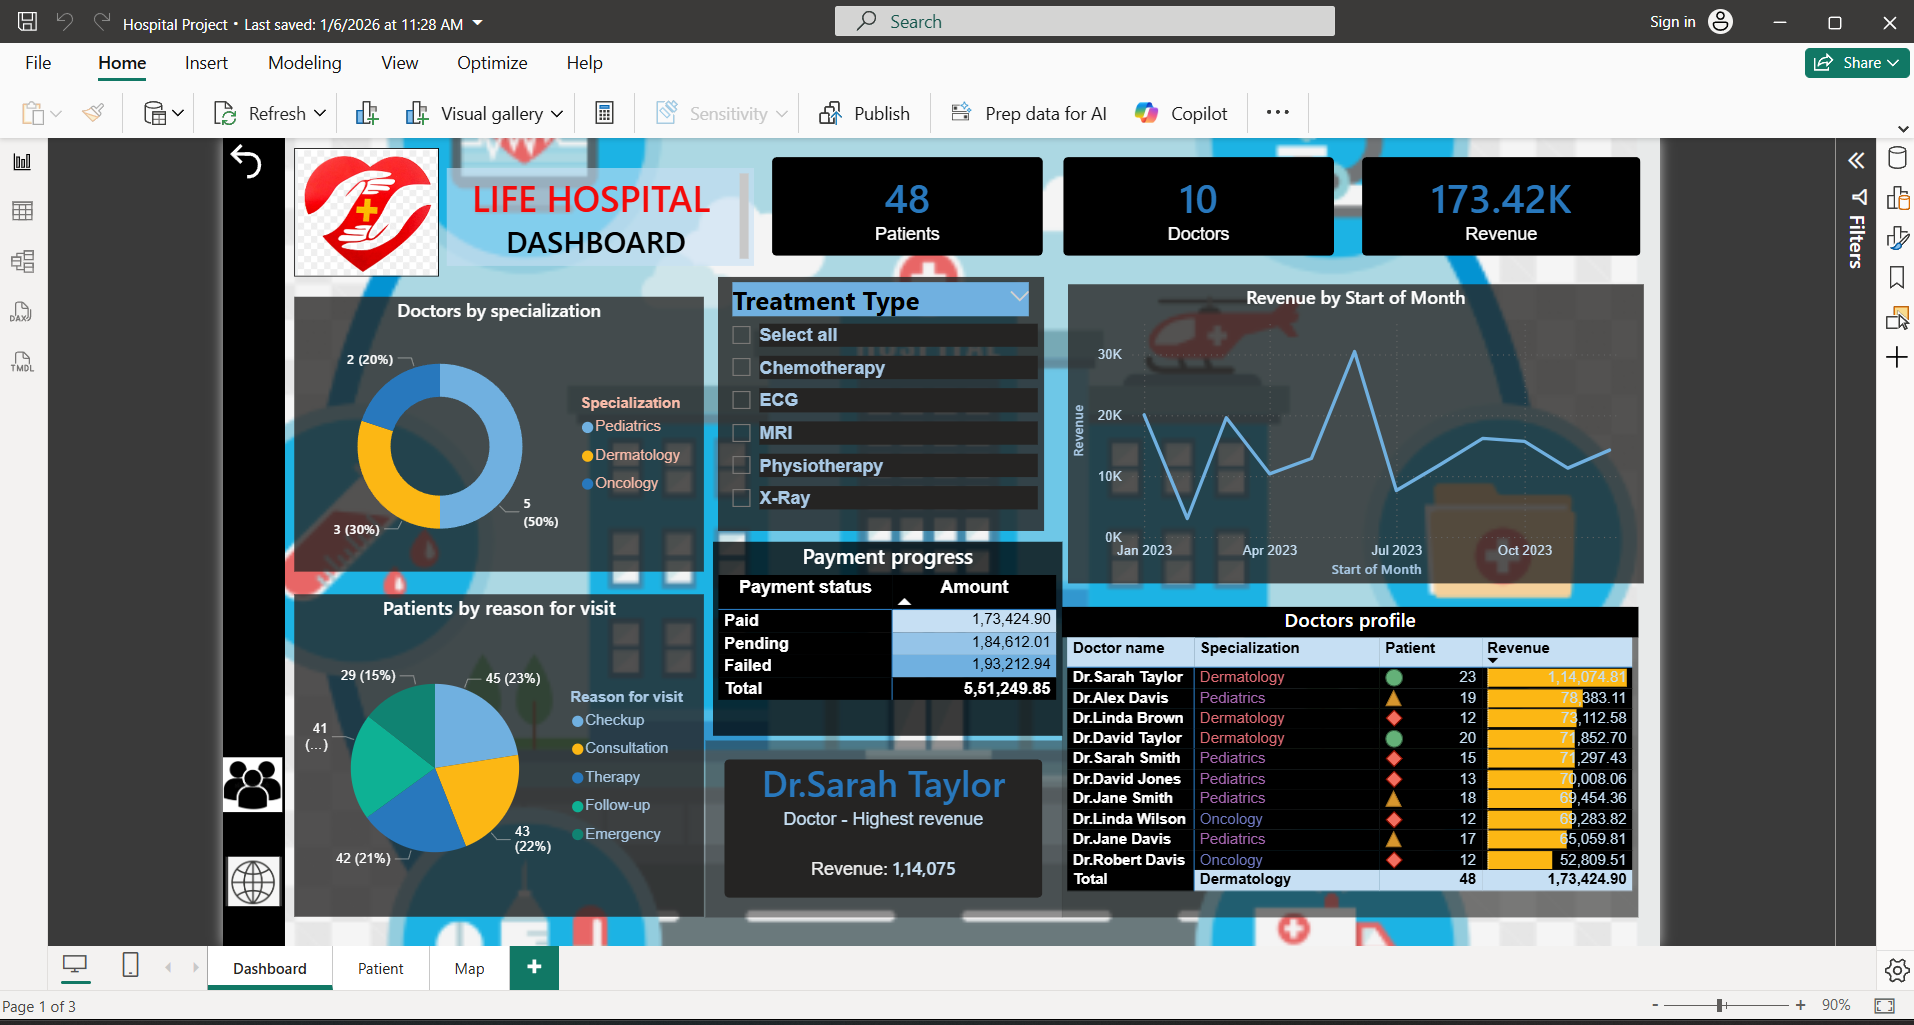

The dashboard page shown, as its layout file describes it:
{"tool":"powerbi","page":{"name":"Dashboard","canvas":[1280,720],"ordinal":0},"visuals":[{"type":"textbox","box":[199.1,26.5,273.9,86.9],"z":0},{"type":"cardVisual","fields":{"Data":["billing.Total Patient"]},"box":[472.5,0,275,122.5],"z":1000},{"type":"cardVisual","fields":{"Data":["doctors.Total doctors"]},"box":[731.2,0,275,122.5],"z":2000},{"type":"lineChart","title":"Revenue by Start of Month","fields":{"Category":["billing.bill_date Hierarchy.bill_date","billing.bill_date Hierarchy.Start of Month","billing.bill_date Hierarchy.Start of Week"],"Y":["billing.Total revenue"]},"box":[752.5,130,512.5,266.2],"z":3000},{"type":"donutChart","title":"Doctors by specialization","fields":{"Category":["doctors.specialization"],"Y":["doctors.Total doctors"]},"box":[63.8,141.2,365,245],"z":4000},{"type":"cardVisual","fields":{"Data":["billing.Total revenue"]},"box":[997.5,0,282.5,122.5],"z":5000},{"type":"pivotTable","title":"Doctors profile","fields":{"Rows":["doctors.Doctor full name"],"Values":["Min(doctors.specialization)","billing.Total Patient","billing.Total revenue","select"]},"box":[747.4,417,513.6,277],"z":6000},{"type":"slicer","fields":{"Values":["treatments.treatment_type"]},"box":[441.2,123.8,290,226.2],"z":7000},{"type":"pivotTable","title":"Payment progress","fields":{"Rows":["billing.payment_status"],"Values":["Sum(billing.amount)","select"]},"box":[436.2,360,311.2,172.5],"z":8000},{"type":"pieChart","title":"Patients by reason for visit","fields":{"Category":["appointments.reason_for_visit"],"Y":["CountNonNull(appointments.patient_id)"]},"box":[63.8,406.2,365,287.5],"z":9000},{"type":"textbox","box":[0,0,55,720],"z":10000},{"type":"actionButton","box":[0,0,53.1,41],"z":11000},{"type":"image","box":[63.9,8.4,129.1,114.6],"z":11001},{"type":"cardVisual","fields":{"Data":["Min(doctors.Doctor full name)"]},"box":[429.9,536.7,317.4,157.3],"z":11002},{"type":"image","box":[2.5,640,50,43.8],"z":11003},{"type":"image","box":[0,550,52.5,52.5],"z":11004}]}

Visuals, with their boxes on the page's 1280x720 design canvas (x1, y1, x2, y2). These are canvas units, not pixel positions in the 1914x1025 screenshot, which may show the page scaled, cropped or inside an application window:
textbox: box(199, 26, 473, 113)
cardVisual - billing.Total Patient: box(472, 0, 748, 122)
cardVisual - doctors.Total doctors: box(731, 0, 1006, 122)
"Revenue by Start of Month" lineChart: box(752, 130, 1265, 396)
"Doctors by specialization" donutChart: box(64, 141, 429, 386)
cardVisual - billing.Total revenue: box(998, 0, 1280, 122)
"Doctors profile" pivotTable: box(747, 417, 1261, 694)
slicer - treatments.treatment_type: box(441, 124, 731, 350)
"Payment progress" pivotTable: box(436, 360, 747, 532)
"Patients by reason for visit" pieChart: box(64, 406, 429, 694)
textbox: box(0, 0, 55, 720)
actionButton: box(0, 0, 53, 41)
image: box(64, 8, 193, 123)
cardVisual - Min(doctors.Doctor full name): box(430, 537, 747, 694)
image: box(2, 640, 52, 684)
image: box(0, 550, 52, 602)
